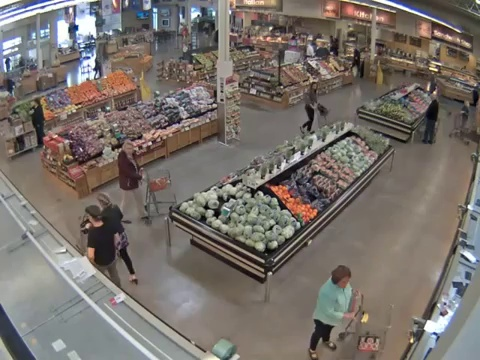face: (337, 274, 350, 288), (123, 143, 134, 154), (311, 82, 318, 90)
